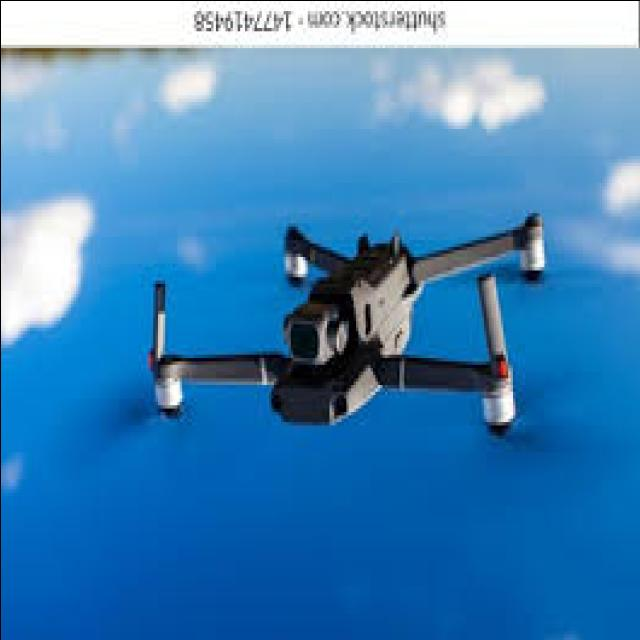drone: (107, 193, 578, 472)
